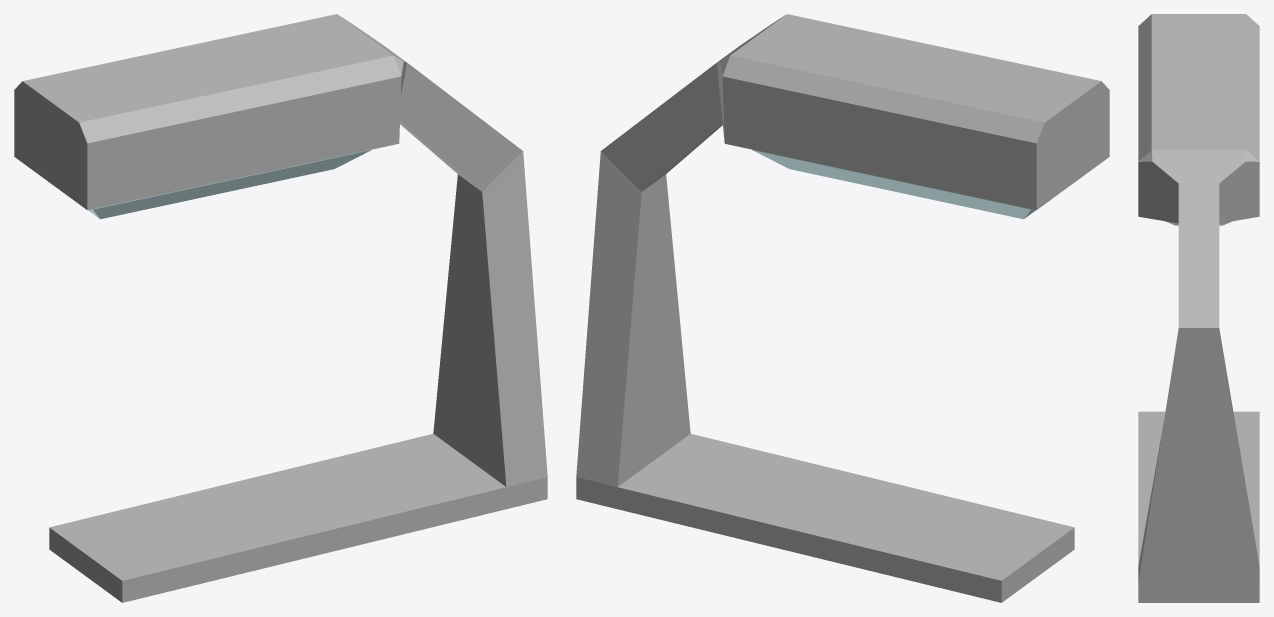
File: lamp.fbx
3 renders of one model, left to right at view 1: azimuth 30°, elevation 25°; view 2: azimuth 150°, elevation 25°; view 3: azimuth 270°, elevation 25°, orthographic. The views are drawn at different scales.
Parts seen in each view (by area): view 1: lamp; view 2: lamp; view 3: lamp.
Boxes of the visible parts, x1,y1,x2,y2 form: lamp: (14,14,547,602); lamp: (576,14,1109,602); lamp: (1138,14,1259,602).
Size of the model in its own units: 728 by 729 by 200.
